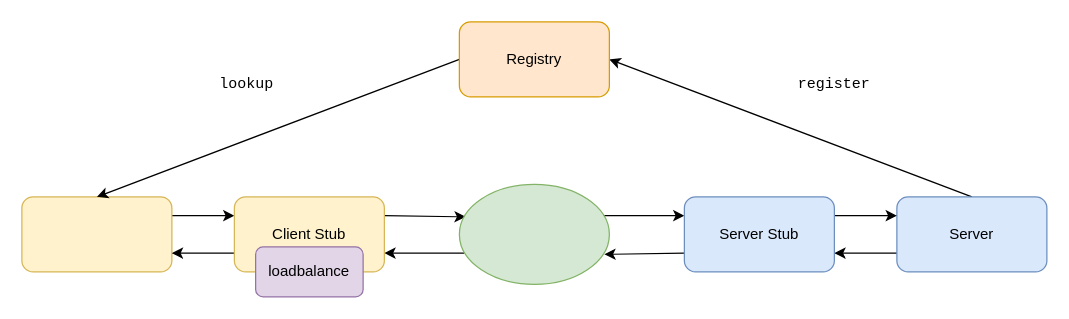
Some shapes in this 1069 by 319 pixel diagram are drawn without their labels. The shapes that lost their labels are listed below. From the top down, each one's centre as x and y in pixels, then its label:
point 96,234: Client
point 533,233: decode/encode serialize
